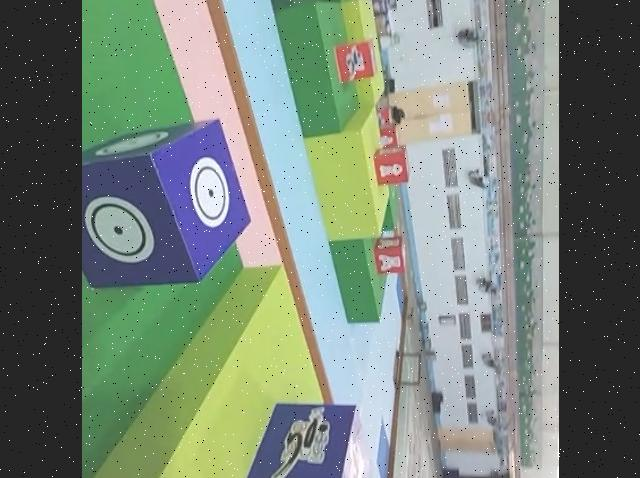R1 Blue: (239, 404, 364, 478)
R2 Real Blue: (81, 117, 249, 284)
